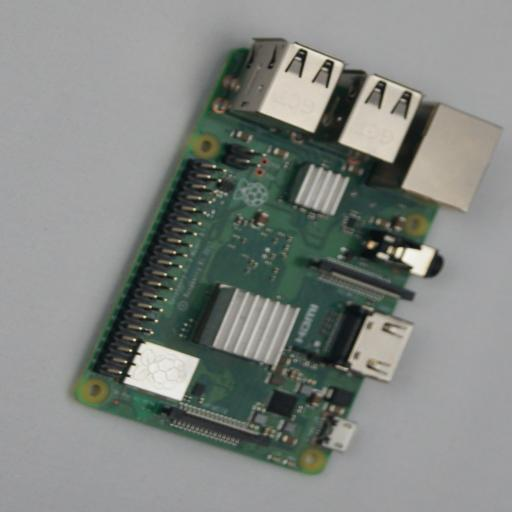Raspberry Pi 3 B-: (70, 38, 454, 474)
